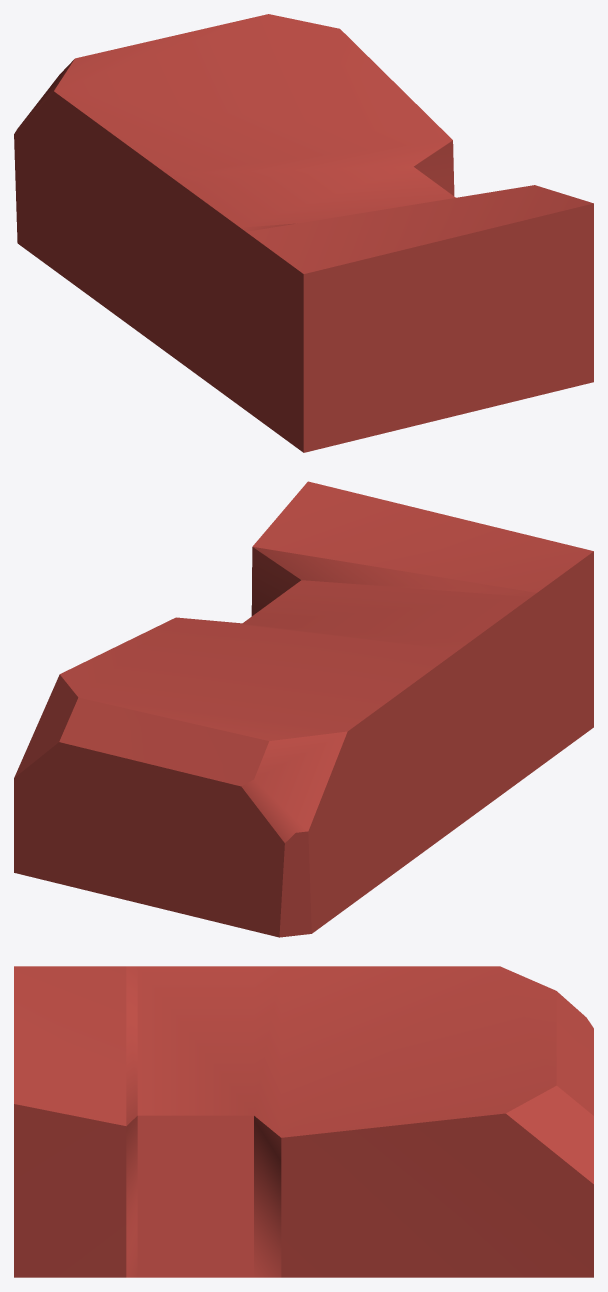
The model's file is SM_brick_03.fbx.
3 renders of one model, top to bottom at view 1: azimuth 30°, elevation 25°; view 2: azimuth 150°, elevation 25°; view 3: azimuth 270°, elevation 25°, orthographic. The views are drawn at different scales.
Parts seen in each view (by area): view 1: brick_03; view 2: brick_03; view 3: brick_03.
Boxes of the visible parts, x1,y1,x2,y2 form: brick_03: [14, 14, 593, 452]; brick_03: [14, 481, 593, 937]; brick_03: [14, 966, 593, 1277].
Bounding box in the file's own units: 25.75 × 15.15 × 45.84.
